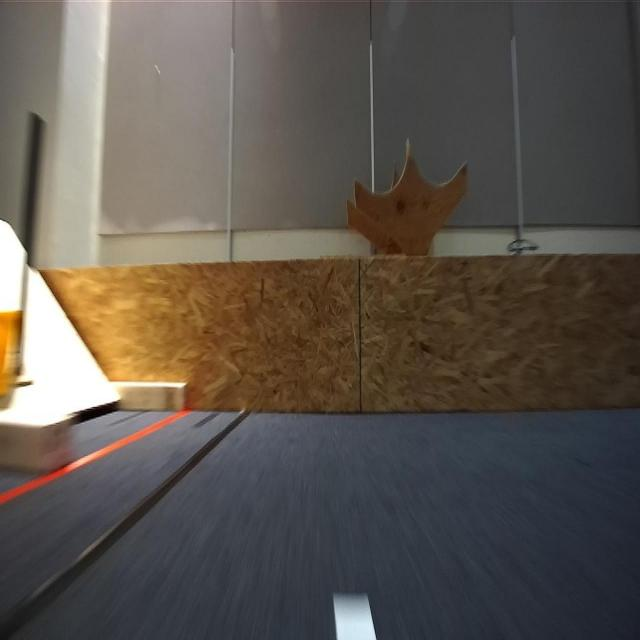frc_cone: (0, 310, 22, 402)
